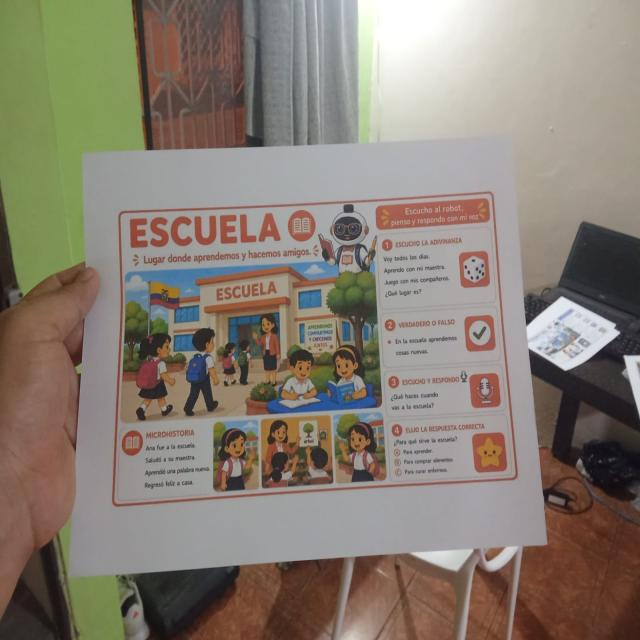escuela: (109, 187, 522, 512)
